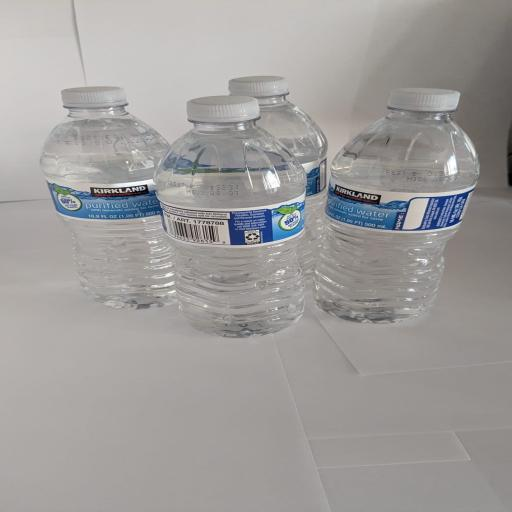waterbottle: (315, 89, 479, 322), (156, 96, 305, 337), (41, 87, 175, 308), (229, 76, 327, 278)
